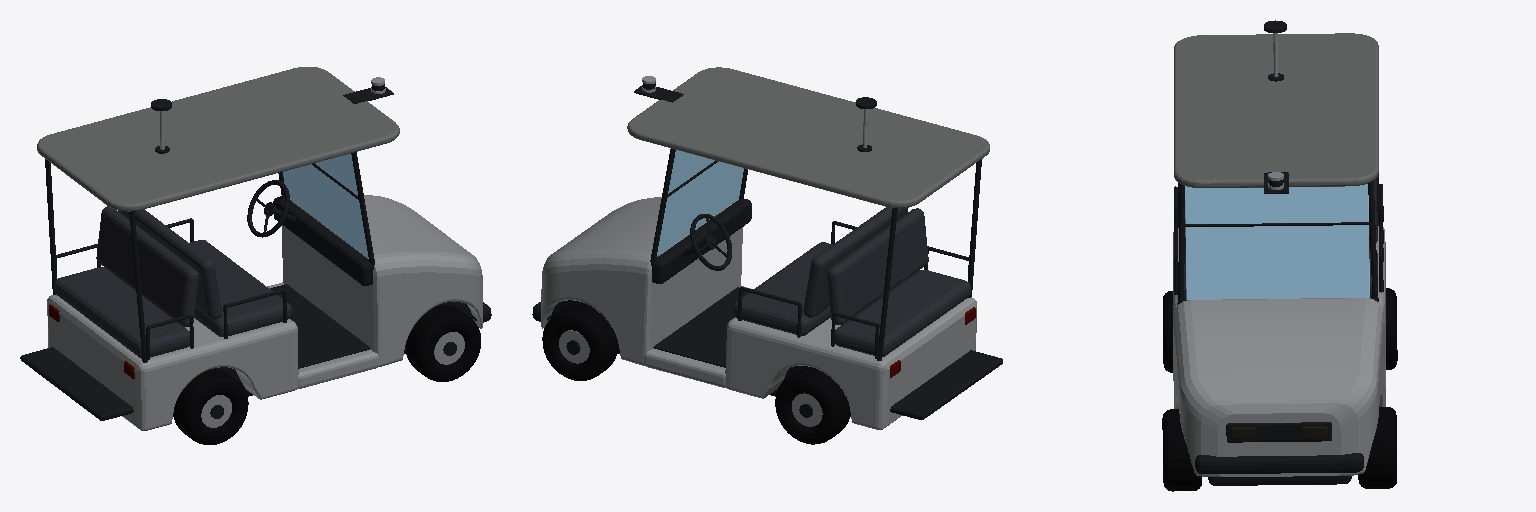
robot.urdf — golf_cart:
<?xml version="1.0"?>
<!-- Written by cart_model.py from cart.yaml: change the sizes there, not here. -->
<robot name="golf_cart">

  <!-- The frame the localization moves: at the lidar's height, behind it.
       os_sensor and imu_link hang on it from the static_transform_publisher
       nodes in lidar_localization.launch.py, not from here. -->
  <link name="base_link"/>

  <!-- The cart's own frame: on the ground under the middle of the rear axle,
       level, x forward. No <material>: with one, RViz would paint the whole
       mesh in it. -->
  <link name="cart_body">
    <visual>
      <geometry><mesh filename="package://lidar_localization_ros2/urdf/golf_cart.dae"/></geometry>
    </visual>
  </link>
  <joint name="cart_body_joint" type="fixed">
    <parent link="base_link"/>
    <child link="cart_body"/>
    <origin xyz="-0.9824 0.0257 -1.8393" rpy="0.01397 -0.02618 -0.00037"/>
  </joint>

  <link name="cart_glass">
    <visual>
      <geometry><mesh filename="package://lidar_localization_ros2/urdf/golf_cart_glass.dae"/></geometry>
      <material name="glass"><color rgba="0.66 0.84 0.95 0.22"/></material>
    </visual>
  </link>
  <joint name="cart_glass_joint" type="fixed">
    <parent link="cart_body"/>
    <child link="cart_glass"/>
  </joint>

  <link name="rtk_pole_base"/>
  <joint name="rtk_pole_base_joint" type="fixed">
    <parent link="cart_body"/>
    <child link="rtk_pole_base"/>
    <origin xyz="0.0000 0.0000 1.7560" rpy="0 0 0"/>
  </joint>

  <link name="gps"/>
  <joint name="gps_joint" type="fixed">
    <parent link="rtk_pole_base"/>
    <child link="gps"/>
    <origin xyz="0 0 0.3000" rpy="0 0 0"/>
  </joint>

</robot>

--- What the picture shows (computed from the rendered views, not written in the file) ---
The picture shows the robot from 3 angles, left to right: view 1: azimuth 30°, elevation 25°; view 2: azimuth 150°, elevation 25°; view 3: azimuth 270°, elevation 25°; orthographic projection.
Model golf_cart with 5 links and 4 joints (4 fixed), rooted at base_link, posed every joint at zero.
Visible links, largest first — view 1: cart_body, cart_glass; view 2: cart_body, cart_glass; view 3: cart_body, cart_glass.
Boxes of the visible links, <box> form: cart_body: <box>20,67,491,444</box>; cart_glass: <box>283,153,368,258</box>; cart_body: <box>532,67,1002,444</box>; cart_glass: <box>657,150,743,255</box>; cart_body: <box>1162,20,1397,491</box>; cart_glass: <box>1185,184,1369,299</box>.
Bounding box of the posed robot: 2.8 × 1.31 × 2.09 m (x, y, z).
Meshes: 2 distinct files referenced, 2 mesh visuals loaded (2 Collada DAE).
